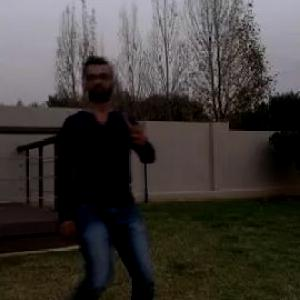takeoff-hand: (122, 104, 158, 146)
